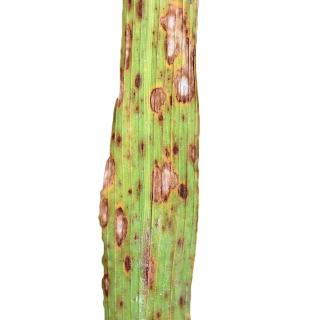Blast: (94, 160, 140, 282), (146, 208, 199, 307), (108, 10, 150, 119), (140, 138, 188, 212), (156, 1, 202, 72)
